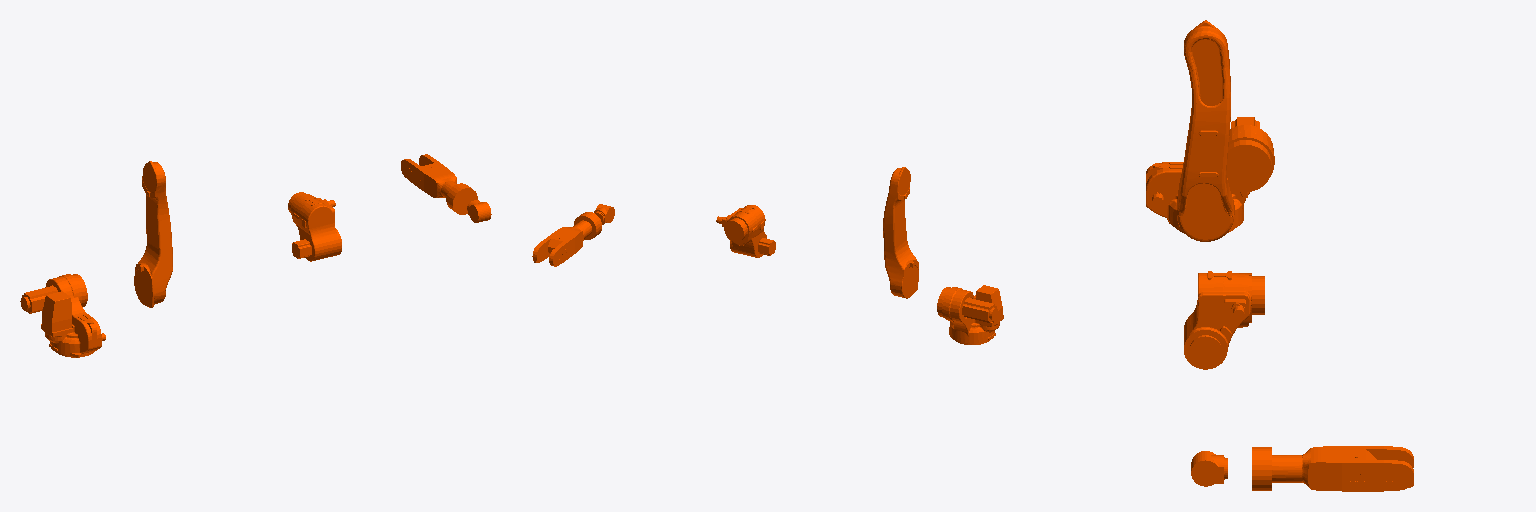
URDF robot description (kuka_kr300r2500ultra):
<?xml version="1.0" ?>
<!-- =================================================================================== -->
<!-- |    This document was autogenerated by xacro from src/kuka_kr300_support/urdf/kr300r2500ultra.xacro | -->
<!-- |    EDITING THIS FILE BY HAND IS NOT RECOMMENDED                                 | -->
<!-- =================================================================================== -->
<!-- =================================================================================== -->
<!-- |    This document was autogenerated by xacro from kr300r2500ultra.xacro            | -->
<!-- |    EDITING THIS FILE BY HAND IS NOT RECOMMENDED                                 | -->
<!-- =================================================================================== -->
<!--Generates a urdf from the macro in kr300r2500ultra_macro.xacro -->
<robot name="kuka_kr300r2500ultra">
  <!-- LINKS -->
  <!-- base link -->
  <link name="base_link">
    <inertial>
      <origin rpy="0 0 0" xyz="0 0 0"/>
      <mass value="2"/>
      <inertia ixx="0.01" ixy="0" ixz="0" iyy="0.01" iyz="0" izz="0.01"/>
    </inertial>
    <visual>
      <origin rpy="0 0 0" xyz="0 0 0"/>
      <geometry>
        <mesh filename="../meshes/kr300r2500pro/visual/base_link.stl"/>
      </geometry>
      <material name="kuka_orange">
        <color rgba="1.0 0.4 0.0 1.0"/>
      </material>
    </visual>
    <collision>
      <origin rpy="0 0 0" xyz="0 0 0"/>
      <geometry>
        <mesh filename="../meshes/kr300r2500pro/collision/base_link.stl" scale="0.001 0.001 0.001"/>
      </geometry>
    </collision>
  </link>
  <!-- link 1 (A1) -->
  <link name="link_1">
    <inertial>
      <origin rpy="0 0 0" xyz="0 0 0"/>
      <mass value="2"/>
      <inertia ixx="0.01" ixy="0" ixz="0" iyy="0.01" iyz="0" izz="0.01"/>
    </inertial>
    <visual>
      <origin rpy="0 0 0" xyz="0 0 0"/>
      <geometry>
        <mesh filename="../meshes/kr300r2500pro/visual/link_1.stl"/>
      </geometry>
      <material name="kuka_orange">
        <color rgba="1.0 0.4 0.0 1.0"/>
      </material>
    </visual>
    <collision>
      <origin rpy="0 0 0" xyz="0 0 0"/>
      <geometry>
        <mesh filename="../meshes/kr300r2500pro/collision/link_1.stl" scale="0.001 0.001 0.001"/>
      </geometry>
    </collision>
  </link>
  <!-- link 2 -->
  <link name="link_2">
    <inertial>
      <origin rpy="0 0 0" xyz="0 0 0"/>
      <mass value="2"/>
      <inertia ixx="0.01" ixy="0" ixz="0" iyy="0.01" iyz="0" izz="0.01"/>
    </inertial>
    <visual>
      <origin rpy="0 0 0" xyz="0 0 0"/>
      <geometry>
        <mesh filename="../meshes/kr300r2500pro/visual/link_2.stl"/>
      </geometry>
      <material name="kuka_orange">
        <color rgba="1.0 0.4 0.0 1.0"/>
      </material>
    </visual>
    <collision>
      <origin rpy="0 0 0" xyz="0 0 0"/>
      <geometry>
        <mesh filename="../meshes/kr300r2500pro/collision/link_2.stl" scale="0.001 0.001 0.001"/>
      </geometry>
    </collision>
  </link>
  <!-- link 3 -->
  <link name="link_3">
    <inertial>
      <origin rpy="0 0 0" xyz="0 0 0"/>
      <mass value="2"/>
      <inertia ixx="0.01" ixy="0" ixz="0" iyy="0.01" iyz="0" izz="0.01"/>
    </inertial>
    <visual>
      <origin rpy="0 0 0" xyz="0 0 0"/>
      <geometry>
        <mesh filename="../meshes/kr300r2500pro/visual/link_3.stl"/>
      </geometry>
      <material name="kuka_orange">
        <color rgba="1.0 0.4 0.0 1.0"/>
      </material>
    </visual>
    <collision>
      <origin rpy="0 0 0" xyz="0 0 0"/>
      <geometry>
        <mesh filename="../meshes/kr300r2500pro/collision/link_3.stl" scale="0.001 0.001 0.001"/>
      </geometry>
    </collision>
  </link>
  <!-- link 4 -->
  <link name="link_4">
    <inertial>
      <origin rpy="0 0 0" xyz="0 0 0"/>
      <mass value="2"/>
      <inertia ixx="0.01" ixy="0" ixz="0" iyy="0.01" iyz="0" izz="0.01"/>
    </inertial>
    <visual>
      <origin rpy="0 0 0" xyz="0 0 0"/>
      <geometry>
        <mesh filename="../meshes/kr300r2500pro/visual/link_4.stl"/>
      </geometry>
      <material name="kuka_orange">
        <color rgba="1.0 0.4 0.0 1.0"/>
      </material>
    </visual>
    <collision>
      <origin rpy="0 0 0" xyz="0 0 0"/>
      <geometry>
        <mesh filename="../meshes/kr300r2500pro/collision/link_4.stl" scale="0.001 0.001 0.001"/>
      </geometry>
    </collision>
  </link>
  <!-- link 5 -->
  <link name="link_5">
    <inertial>
      <origin rpy="0 0 0" xyz="0 0 0"/>
      <mass value="2"/>
      <inertia ixx="0.01" ixy="0" ixz="0" iyy="0.01" iyz="0" izz="0.01"/>
    </inertial>
    <visual>
      <origin rpy="0 0 0" xyz="0 0 0"/>
      <geometry>
        <mesh filename="../meshes/kr300r2500pro/visual/link_5.stl"/>
      </geometry>
      <material name="kuka_orange">
        <color rgba="1.0 0.4 0.0 1.0"/>
      </material>
    </visual>
    <collision>
      <origin rpy="0 0 0" xyz="0 0 0"/>
      <geometry>
        <mesh filename="../meshes/kr300r2500pro/collision/link_5.stl" scale="0.001 0.001 0.001"/>
      </geometry>
    </collision>
  </link>
  <!-- link 6 -->
  <link name="link_6">
    <inertial>
      <origin rpy="0 0 0" xyz="0 0 0"/>
      <mass value="2"/>
      <inertia ixx="0.01" ixy="0" ixz="0" iyy="0.01" iyz="0" izz="0.01"/>
    </inertial>
    <visual>
      <origin rpy="0 0 0" xyz="0 0 0"/>
      <geometry>
        <mesh filename="../meshes/kr300r2500pro/visual/link_6.stl"/>
      </geometry>
      <material name="kuka_orange">
        <color rgba="1.0 0.4 0.0 1.0"/>
      </material>
    </visual>
    <collision>
      <origin rpy="0 0 0" xyz="0 0 0"/>
      <geometry>
        <mesh filename="../meshes/kr300r2500pro/collision/link_6.stl" scale="0.001 0.001 0.001"/>
      </geometry>
    </collision>
  </link>
  <!-- tool 0 -->
  <!-- This frame corresponds to the $FLANGE coordinate system in KUKA KRC controllers. -->
  <link name="tool0"/>
  <!-- END LINKS -->
  <!-- JOINTS -->
  <!-- joint 1 (A1) -->
  <joint name="joint_1" type="revolute">
    <origin rpy="0 0 0" xyz="0 0 0.675"/>
    <parent link="base_link"/>
    <child link="link_1"/>
    <axis xyz="0 0 -1"/>
    <limit effort="0" lower="-3.2288591161895095" upper="3.2288591161895095" velocity="2.722713633111154"/>
  </joint>
  <!-- joint 2 (A2) -->
  <joint name="joint_2" type="revolute">
    <origin rpy="0 0 0" xyz="0.35 0 0"/>
    <parent link="link_1"/>
    <child link="link_2"/>
    <axis xyz="0 1 0"/>
    <limit effort="0" lower="-2.705260340591211" upper="0.6108652381980153" velocity="2.722713633111154"/>
  </joint>
  <!-- joint 3 (A3) -->
  <joint name="joint_3" type="revolute">
    <origin rpy="0 0 0" xyz="1.15 0 0"/>
    <parent link="link_2"/>
    <child link="link_3"/>
    <axis xyz="0 1 0"/>
    <limit effort="0" lower="-2.2689280275926285" upper="2.6878070480715634" velocity="2.722713633111154"/>
  </joint>
  <!-- joint 4 (A4) -->
  <joint name="joint_4" type="revolute">
    <origin rpy="0 0 0" xyz="1.0 0 -0.041"/>
    <parent link="link_3"/>
    <child link="link_4"/>
    <axis xyz="-1 0 0"/>
    <limit effort="0" lower="-6.108652381980153" upper="6.108652381980153" velocity="5.759586531581287"/>
  </joint>
  <!-- joint 5 (A5) -->
  <joint name="joint_5" type="revolute">
    <origin rpy="0 0 0" xyz="0 0 0"/>
    <parent link="link_4"/>
    <child link="link_5"/>
    <axis xyz="0 1 0"/>
    <limit effort="0" lower="-2.2689280275926285" upper="2.2689280275926285" velocity="5.759586531581287"/>
  </joint>
  <!-- joint 6 (A6) -->
  <joint name="joint_6" type="revolute">
    <origin rpy="0 0 0" xyz="0 0 0"/>
    <parent link="link_5"/>
    <child link="link_6"/>
    <axis xyz="-1 0 0"/>
    <limit effort="0" lower="-6.108652381980153" upper="6.108652381980153" velocity="10.73557427215321"/>
  </joint>
  <!-- tool frame - fixed frame -->
  <joint name="joint_6-tool0" type="fixed">
    <origin rpy="0 1.5707963267948966 0" xyz="0.24 0 0"/>
    <parent link="link_6"/>
    <child link="tool0"/>
  </joint>
  <!-- END JOINTS -->
  <!-- ROS base_link to KUKA $ROBROOT coordinate system transform -->
  <link name="base"/>
  <joint name="base_link-base" type="fixed">
    <origin rpy="0 0 0" xyz="0 0 0"/>
    <parent link="base_link"/>
    <child link="base"/>
  </joint>
</robot>

--- What the picture shows (computed from the rendered views, not written in the file) ---
Views: 3 orthographic renders of the robot side by side, from view 1: azimuth 30°, elevation 25°; view 2: azimuth 150°, elevation 25°; view 3: azimuth 270°, elevation 25°.
Robot: kuka_kr300r2500ultra — 9 links, 8 joints (6 revolute, 2 fixed); root link base_link; default pose: every joint at zero.
Links seen in each view (by area): view 1: link_1, link_2, link_3, link_4; view 2: link_2, link_1, link_3, link_4; view 3: link_2, link_4, link_3, link_1, link_5.
Link boxes in pixels (x1,y1,x2,y2): link_1: [20, 274, 105, 357]; link_2: [134, 161, 172, 307]; link_3: [288, 192, 341, 261]; link_4: [401, 154, 477, 214]; link_2: [883, 167, 918, 298]; link_1: [937, 285, 1003, 344]; link_3: [716, 205, 775, 257]; link_4: [532, 212, 601, 266]; link_2: [1177, 20, 1234, 241]; link_4: [1252, 446, 1413, 491]; link_3: [1184, 271, 1264, 369]; link_1: [1146, 117, 1274, 233]; link_5: [1191, 451, 1227, 486].
Bounding box of the posed robot: 2.81 × 0.939 × 0.999 m (x, y, z).
6 mesh visuals loaded from 7 distinct referenced files (6 binary STL); not drawn: 1 (reference not matched to a file when rendering).